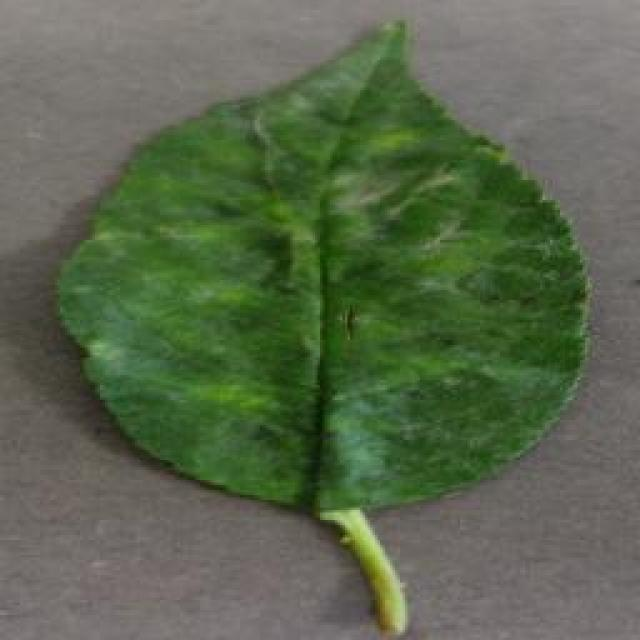Cherry___Powdery_mildew: (42, 2, 602, 640)
